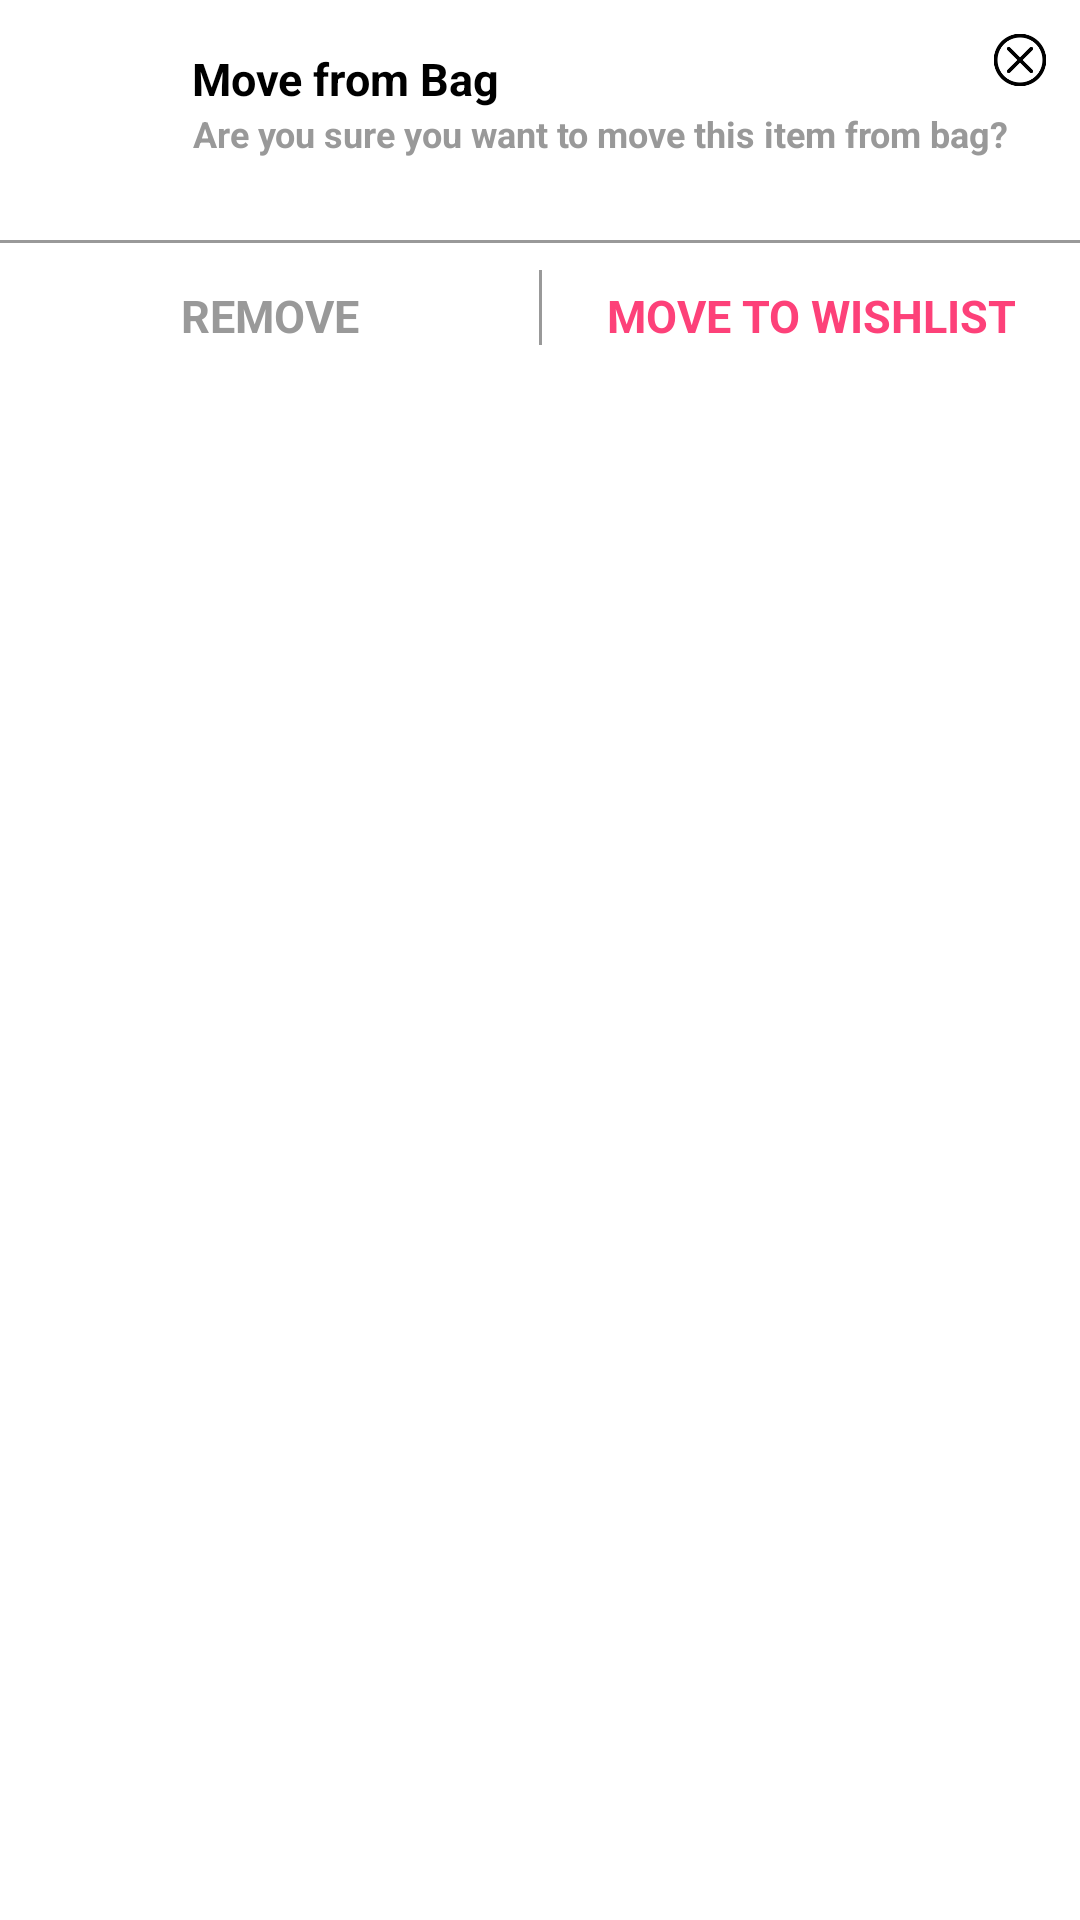

Icon click points for this 1080 × 1920 phone screenshot, format [x,y]:
cross: [1020,60]
